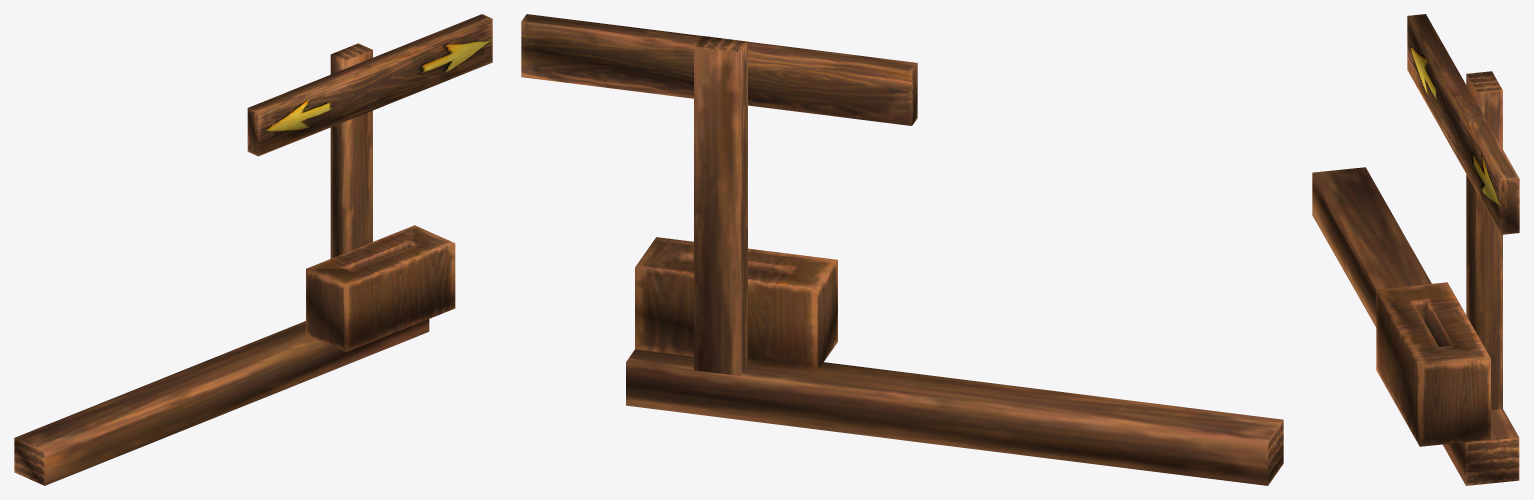
File: SWORDLIGHT20_MAINCAVTRACKSWITCH1.fbx
3 views of the same model, side by side, from view 1: azimuth 30°, elevation 25°; view 2: azimuth 150°, elevation 25°; view 3: azimuth 270°, elevation 25° (orthographic). The views are drawn at different scales.
Visible parts, largest first — view 1: SWORDLIGHT20_MAINCAVTRACKSWITCH1; view 2: SWORDLIGHT20_MAINCAVTRACKSWITCH1; view 3: SWORDLIGHT20_MAINCAVTRACKSWITCH1.
Boxes of the visible parts, x1,y1,x2,y2 form: SWORDLIGHT20_MAINCAVTRACKSWITCH1: (14, 14, 492, 485); SWORDLIGHT20_MAINCAVTRACKSWITCH1: (521, 14, 1283, 485); SWORDLIGHT20_MAINCAVTRACKSWITCH1: (1312, 14, 1519, 485).
Size of the model in its own units: 28189 by 14720 by 7645.
3 materials, 3 textured.
